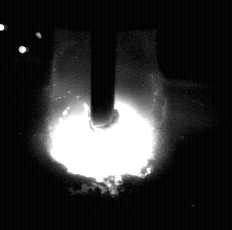arame: (91, 0, 116, 128)
poca: (46, 0, 164, 230)
